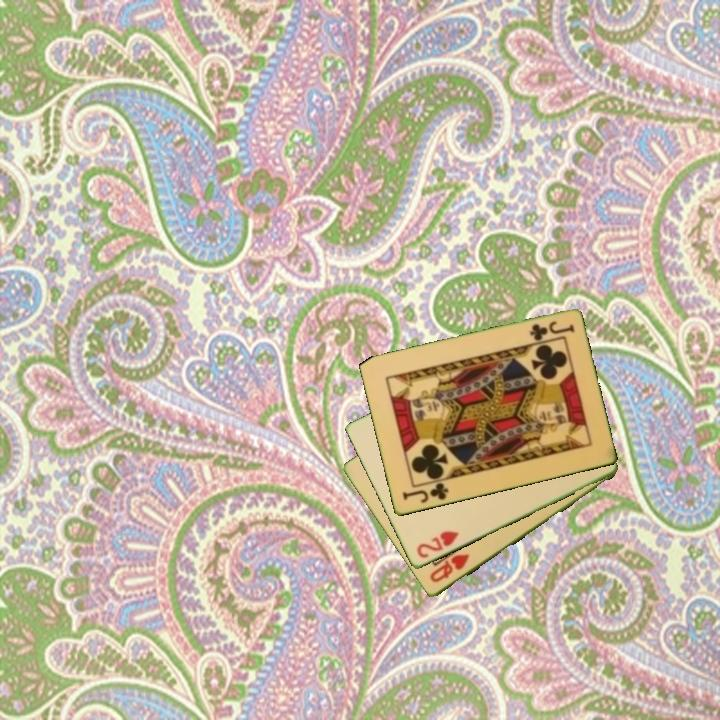2h: (413, 528, 461, 561)
Jc: (399, 479, 451, 506), (526, 318, 577, 344)
Qh: (426, 551, 472, 586)
